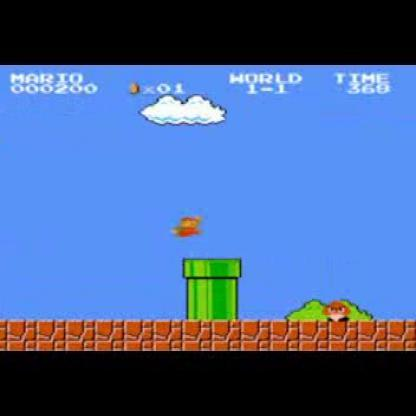Goomba: (322, 298, 350, 324)
